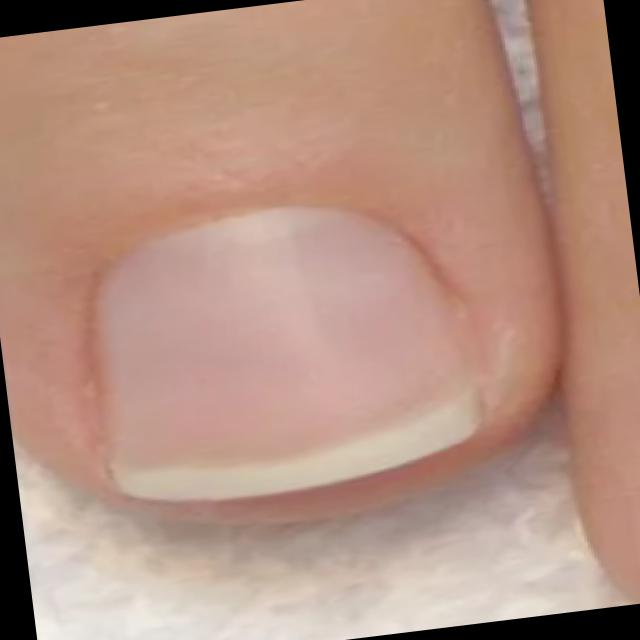Nail: (97, 206, 480, 501)
